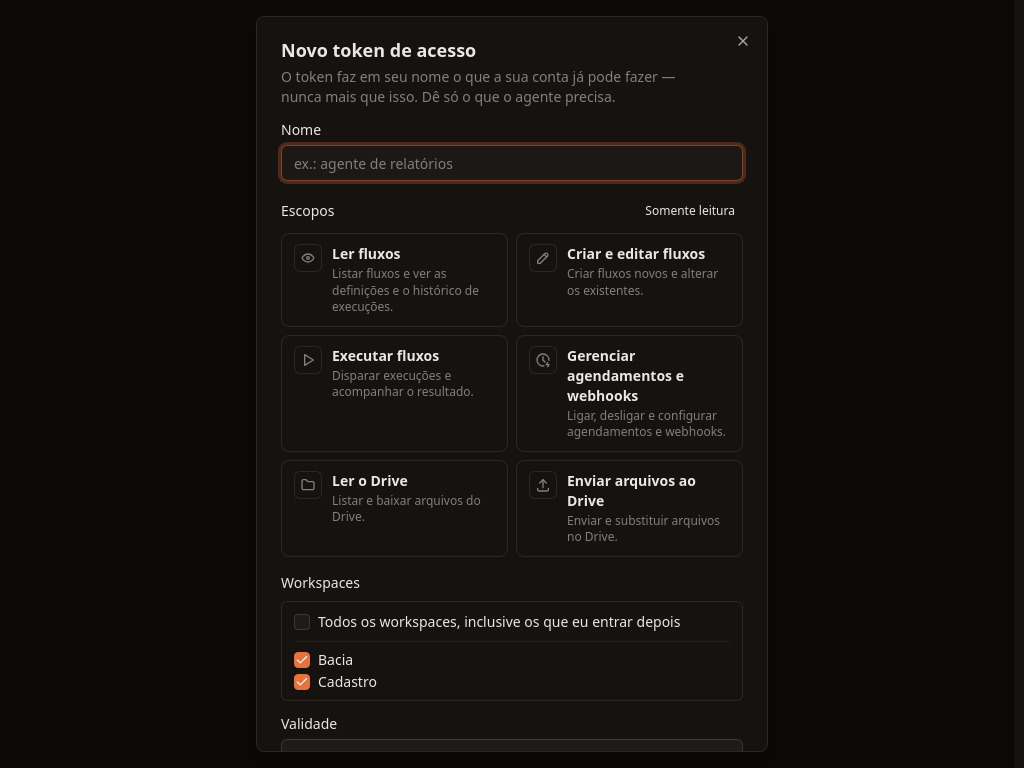
Test: CreateToken — passo 1 (formulário) › sem nenhum workspace marcado (e sem «Todos»), não envia e explica
Type "Agente" into the field labelled "Nome" at (512, 163), box left=281, top=145, right=743, bottom=181
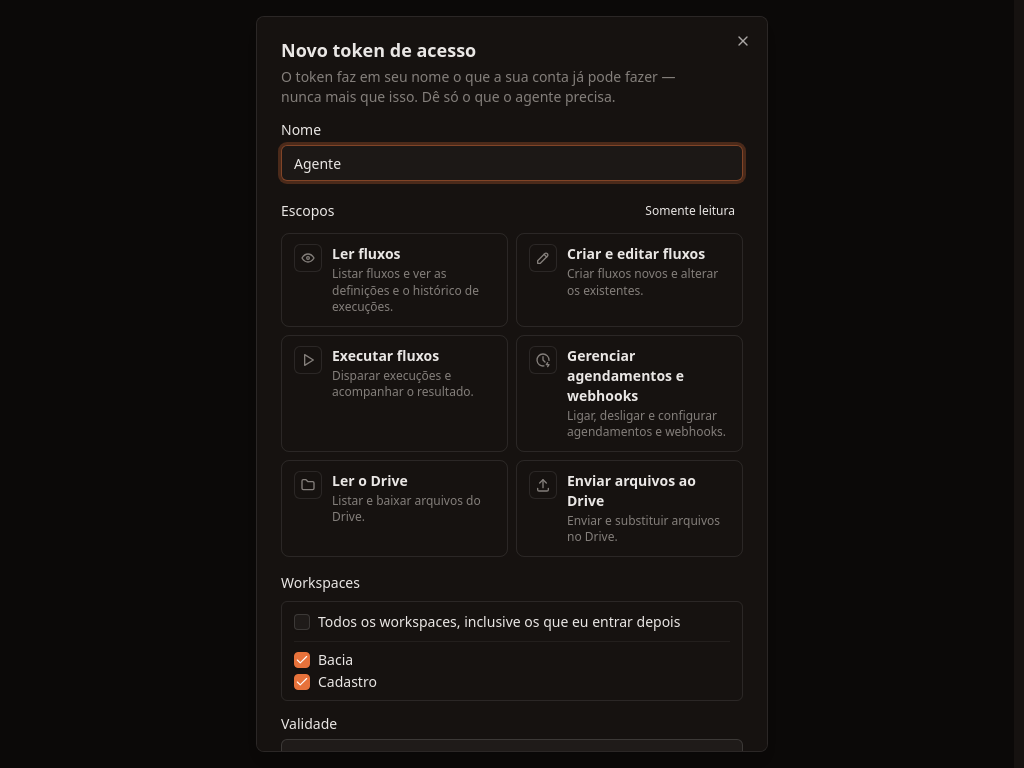
Click the button that starts with "Ler fluxos" at (394, 280), box left=281, top=233, right=508, bottom=326
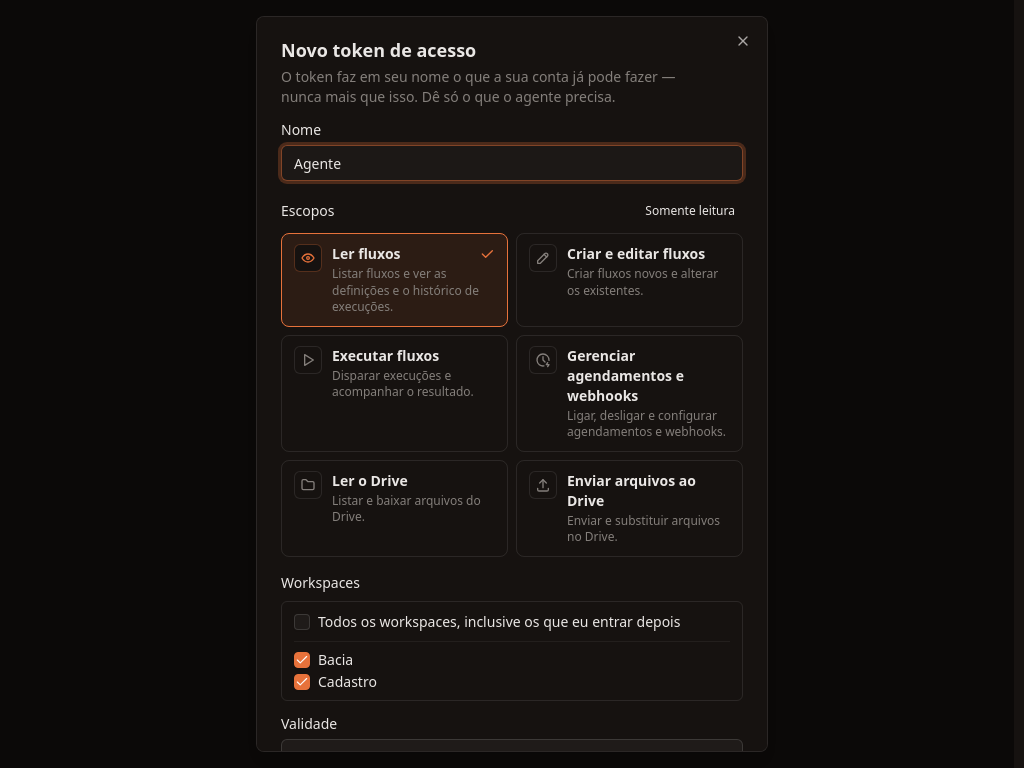
Click the checkbox named "Bacia" next to "Bacia" at (302, 660), box left=294, top=652, right=310, bottom=668
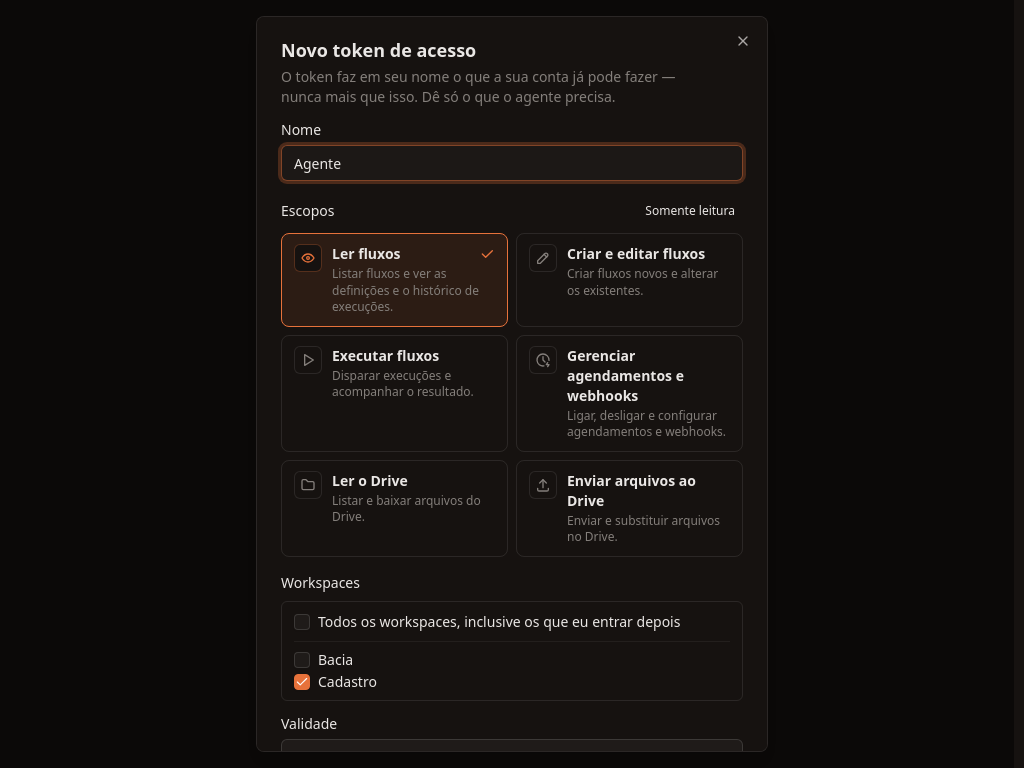
Click the checkbox named "Cadastro" next to "Cadastro" at (302, 682), box left=294, top=674, right=310, bottom=690
(page scrolled)
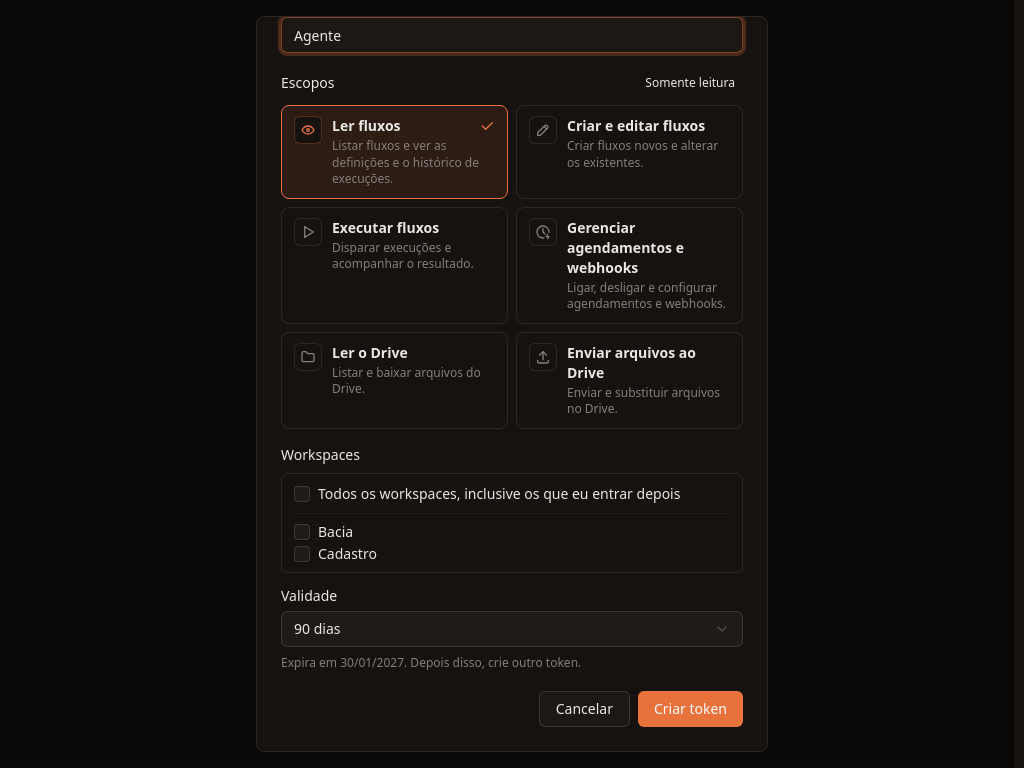
Click the button "Criar token" at (690, 709), box left=638, top=691, right=743, bottom=727
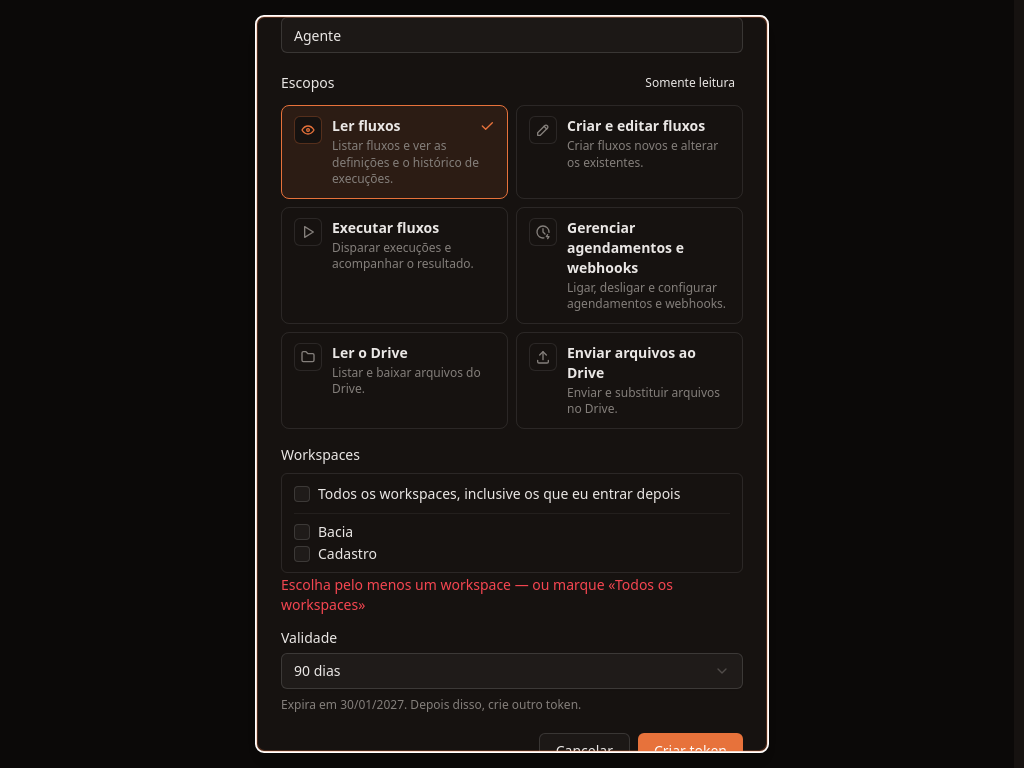
Now the text "Escolha pelo menos um workspace" is shown, box left=281, top=575, right=673, bottom=614
